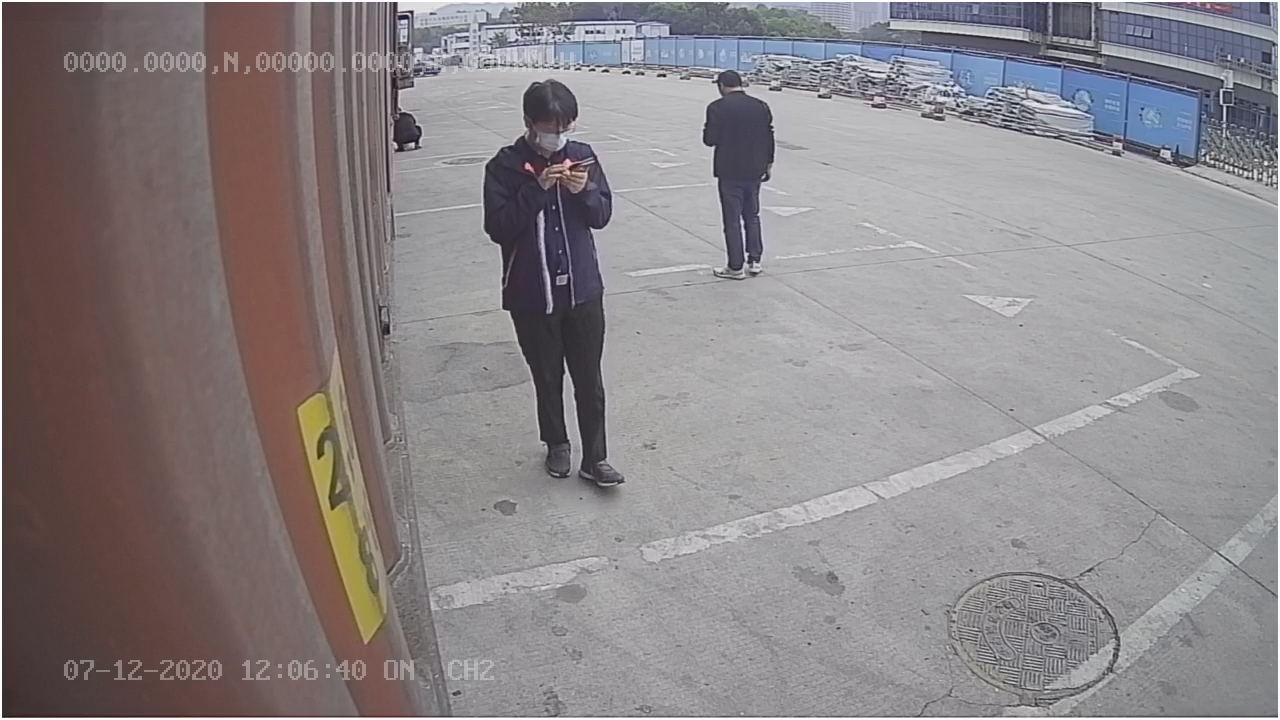person: (480, 73, 629, 490), (702, 62, 778, 288)
